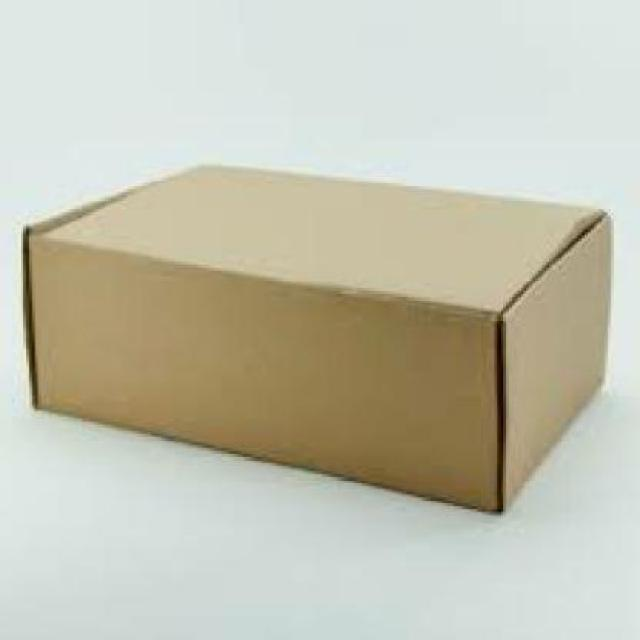box: (16, 154, 626, 535)
